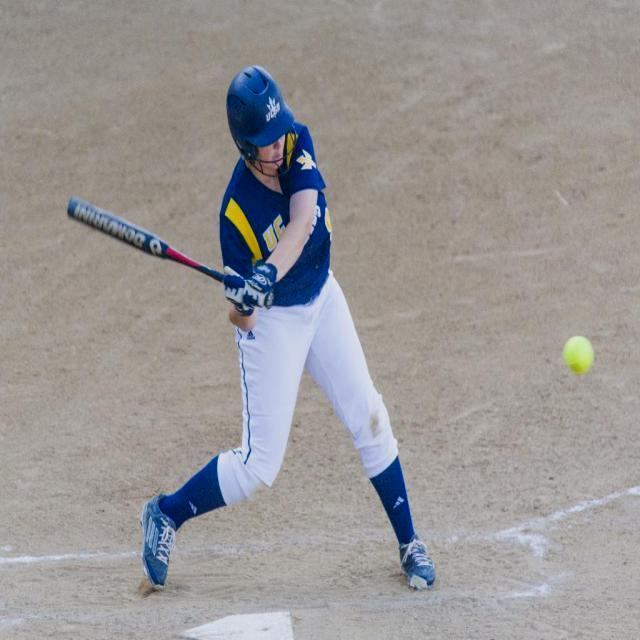baseball bat: (67, 194, 226, 286)
sports ball: (561, 335, 595, 377)
